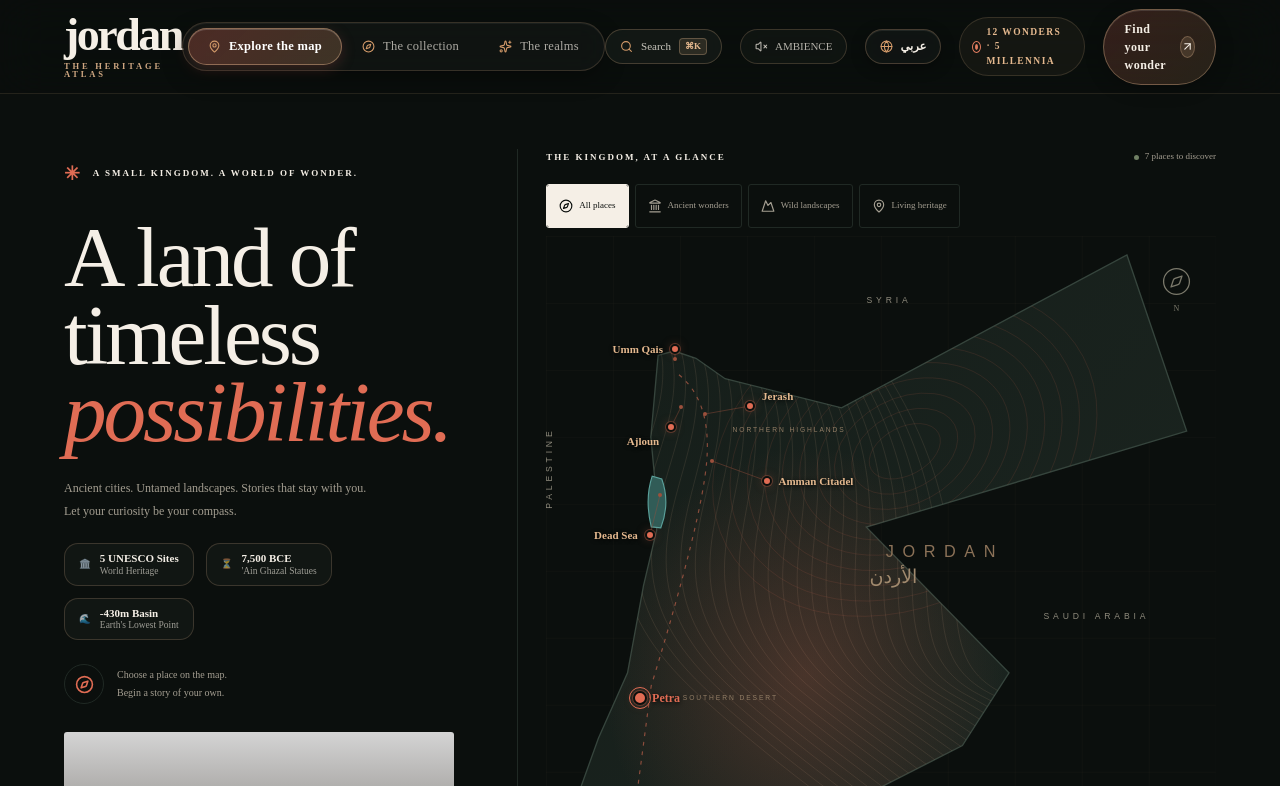
Test: Geographic routes › filters both map hotspots and the destination collection
Click the button "Wild landscapes" at (800, 206), box [748, 184, 853, 228]
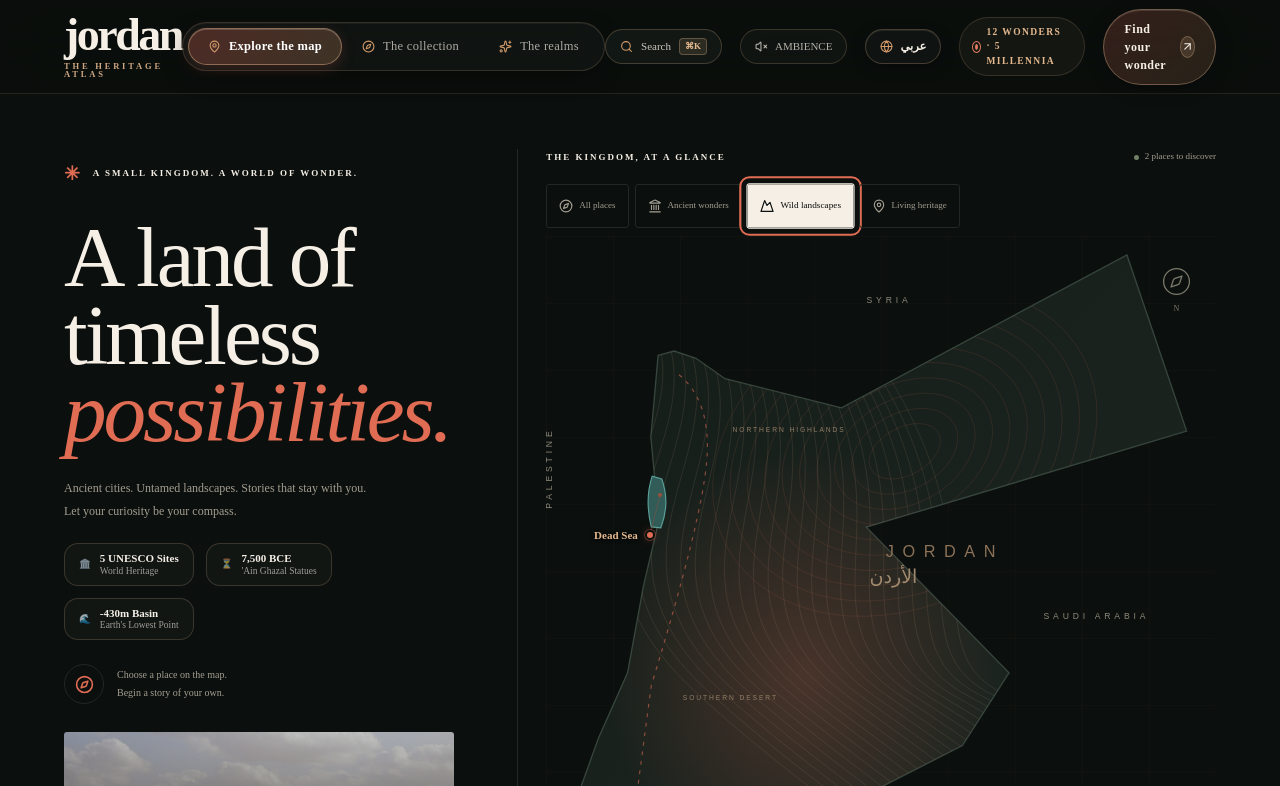
Expected: the button "Wild landscapes" is pressed, [746, 184, 854, 229]
Click the button "All places" at (587, 206), box [546, 184, 629, 228]
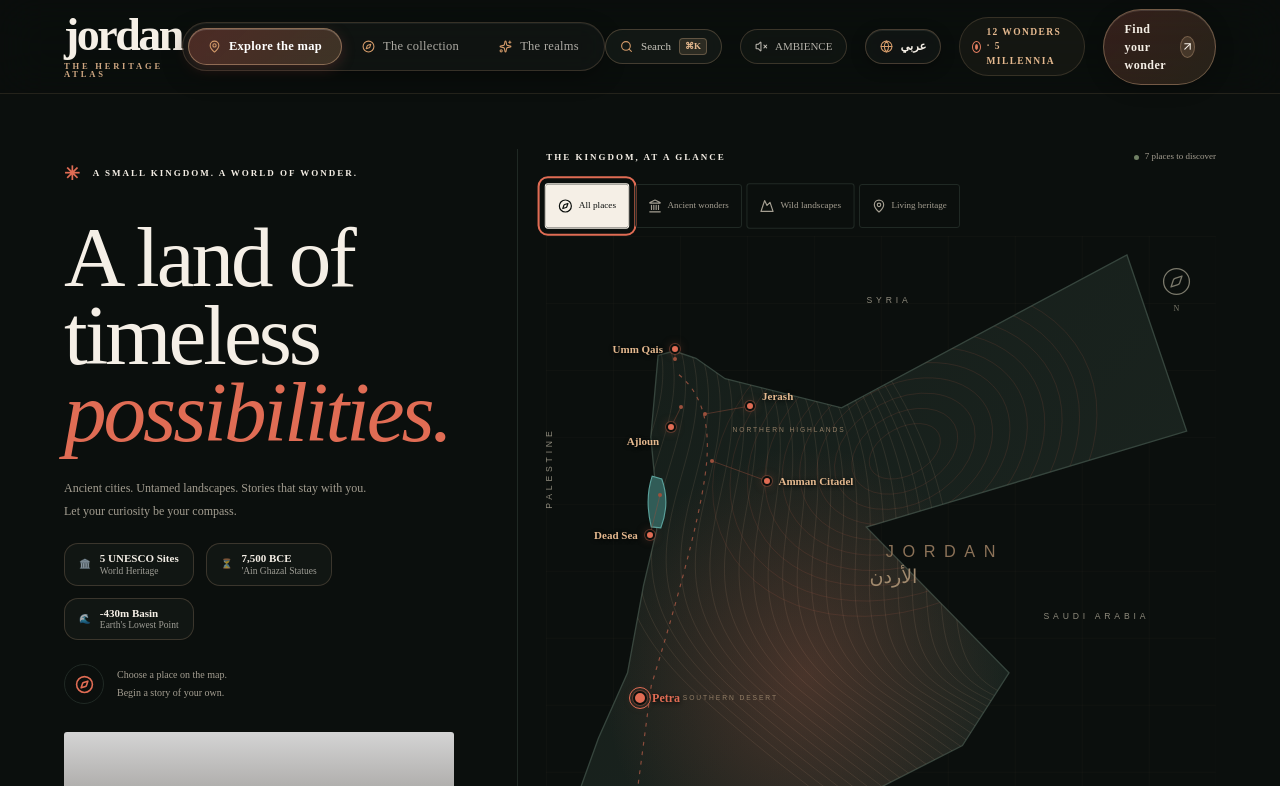
Expected: the button with aria-label "Explore Petra" is shown, [618, 676, 662, 720]
